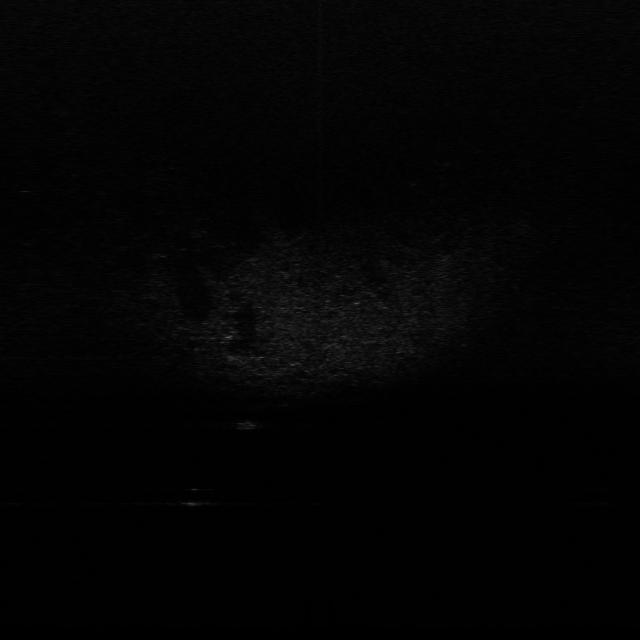ball: (181, 481, 213, 506)
cube: (234, 413, 262, 434)
